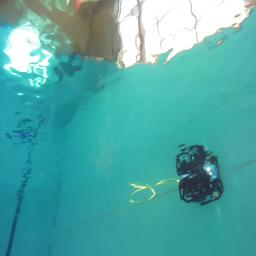Side: (178, 169, 224, 206)
